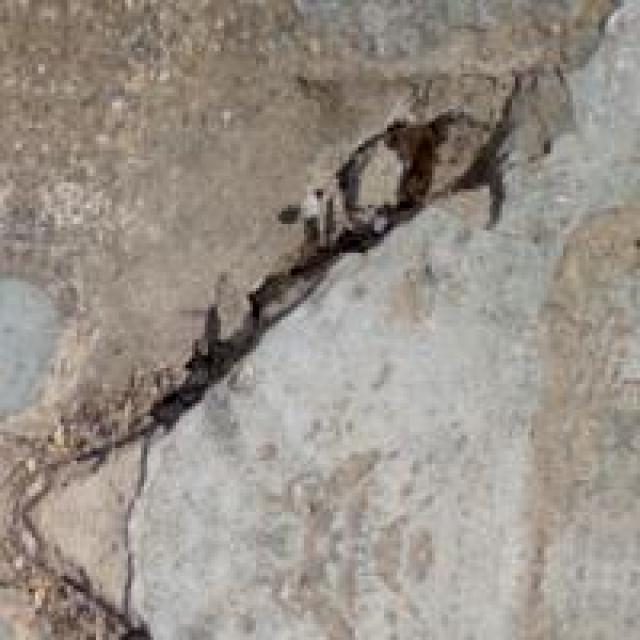SurfaceCrack: (86, 72, 570, 458)
